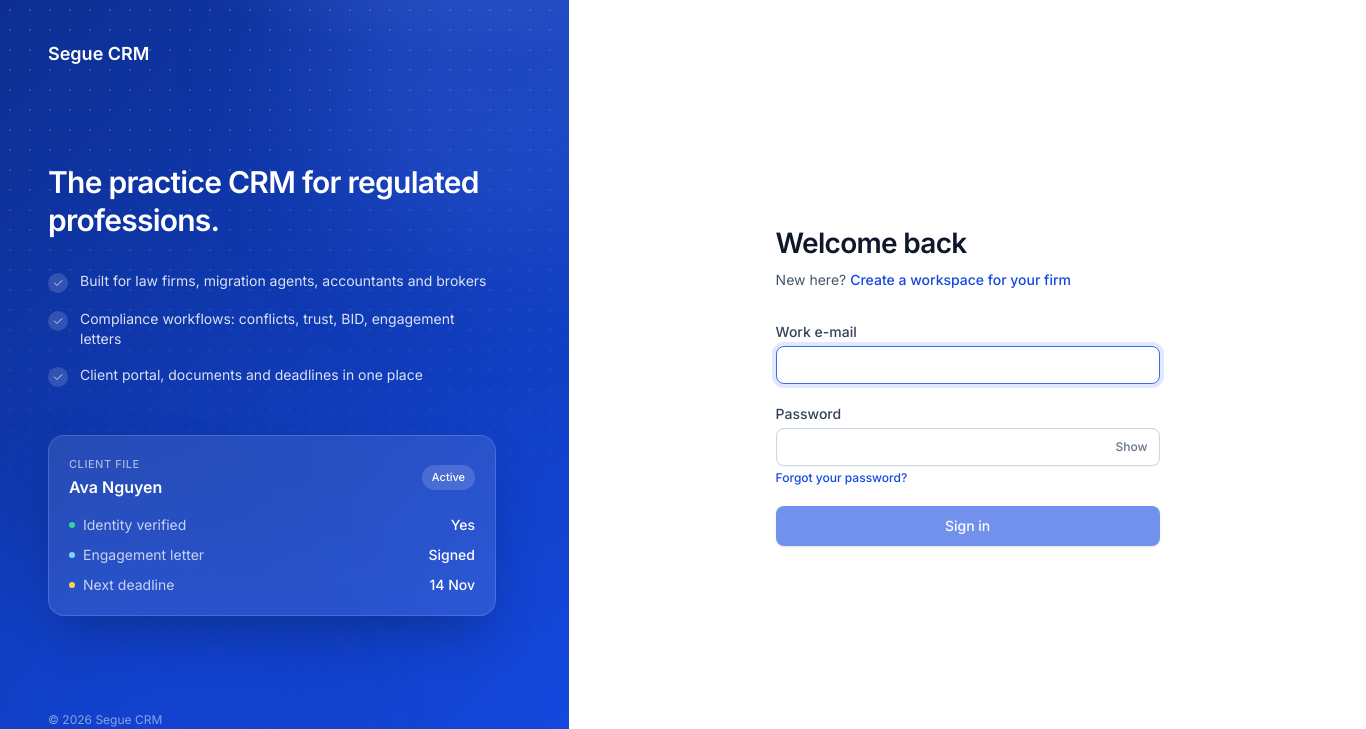
Test case: login flow › goes to the requested page after signing in
Type "admin@demo.example.com" into the field labelled "Work e-mail" at (968, 365), box top-left (776, 346), bottom-right (1160, 384)
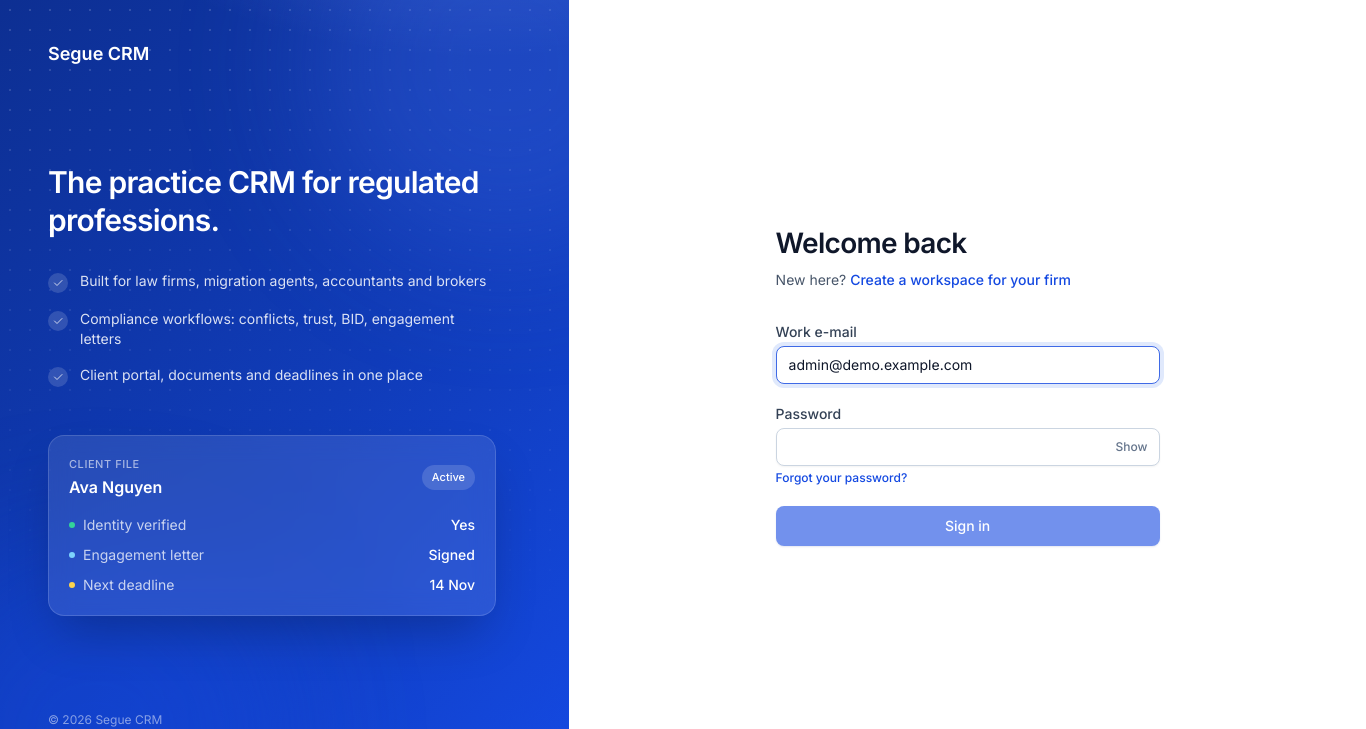
Type "Demo-Password-2026!" into the password field labelled "Password" at (968, 447), box top-left (776, 428), bottom-right (1160, 466)
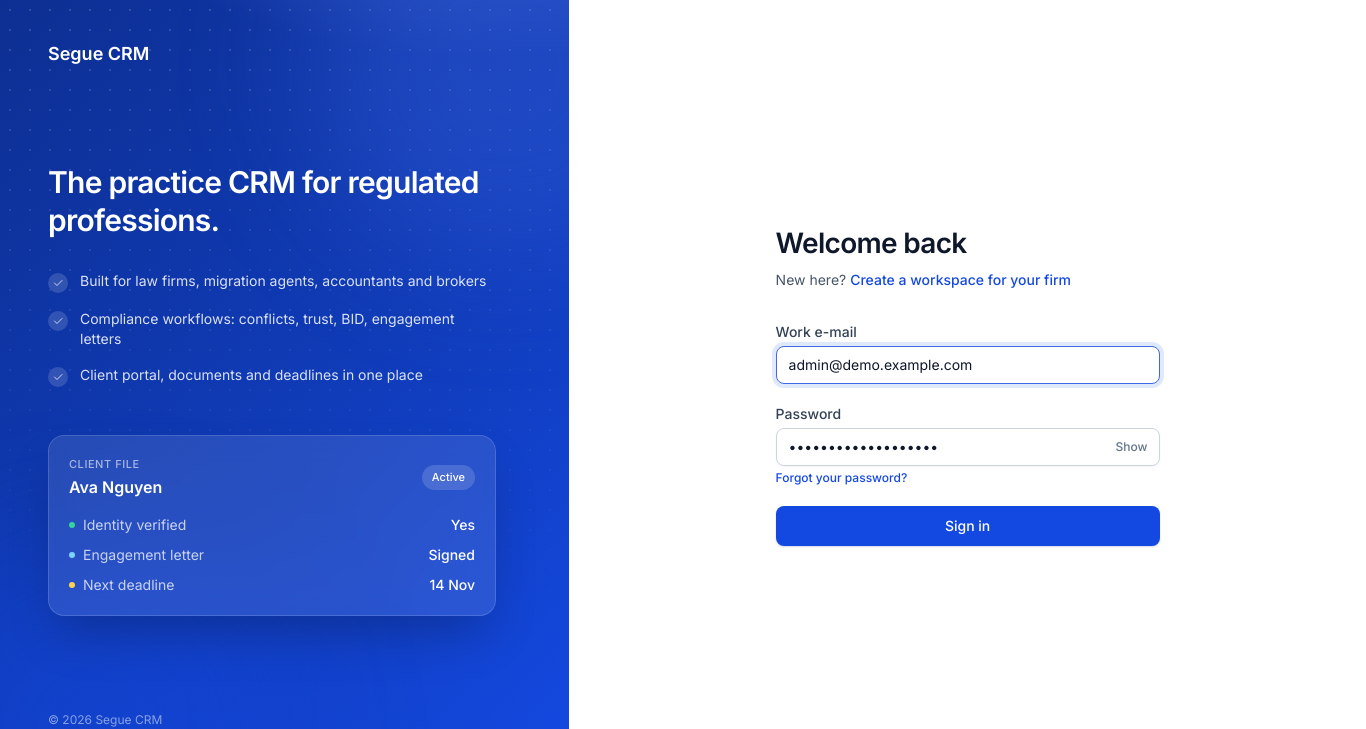
Click the button "Sign in" at (968, 526), box top-left (776, 506), bottom-right (1160, 546)
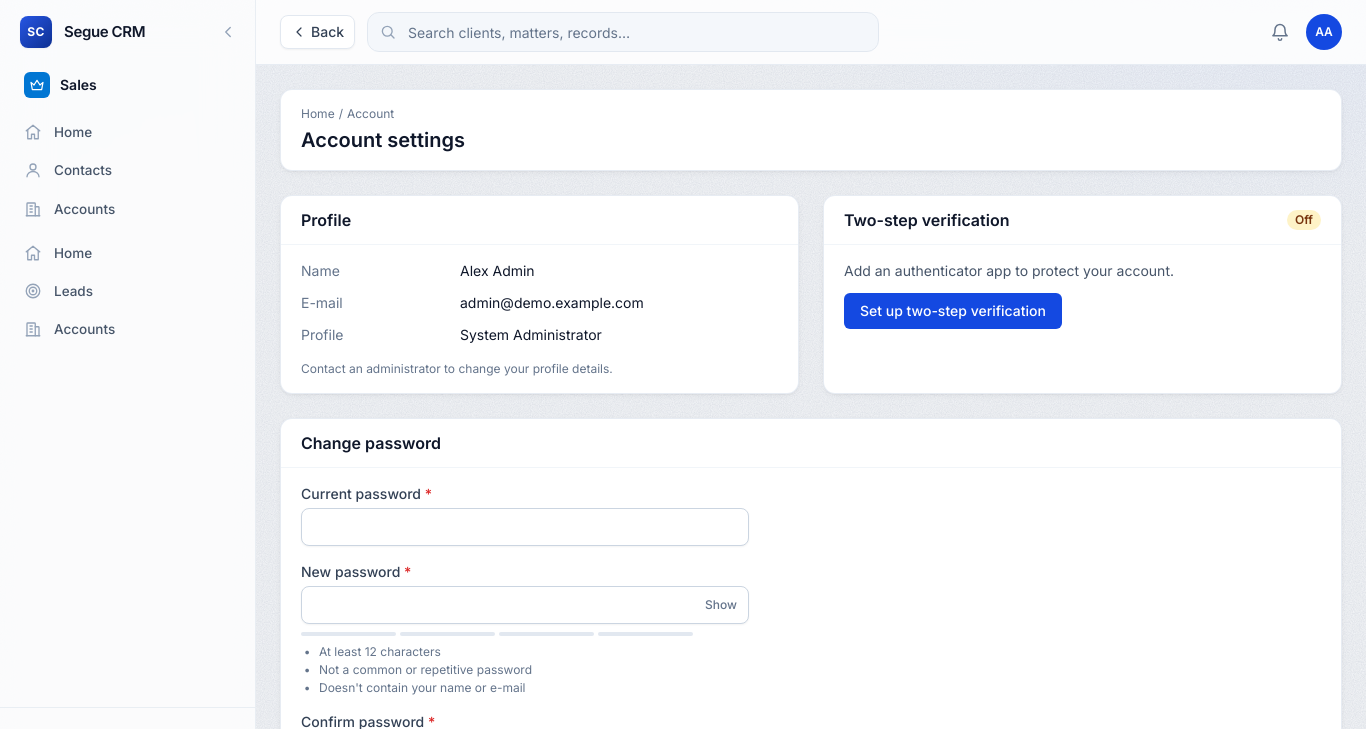
Result: the heading "Account settings" is shown at top-left (301, 126), bottom-right (465, 154)
